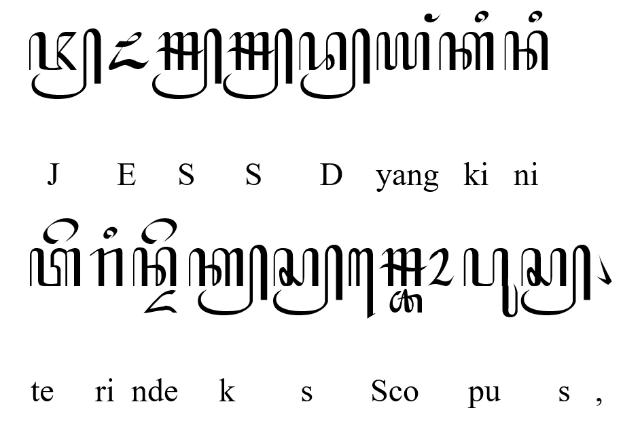-S: (222, 27, 294, 99), (152, 27, 222, 99)
-d: (300, 28, 370, 100)
-j: (28, 26, 102, 99)
-k: (188, 244, 268, 316)
-s: (518, 245, 592, 317), (273, 244, 343, 318)
E: (108, 32, 150, 71)
S: (378, 247, 428, 287)
_c: (389, 289, 423, 315)
_d: (144, 289, 178, 315)
e: (140, 218, 178, 245), (42, 218, 80, 244)
e1: (348, 248, 376, 320)
i: (529, 10, 543, 24), (102, 227, 118, 239), (474, 10, 488, 22)
k: (438, 31, 494, 71)
kom: (596, 253, 612, 287)
n: (132, 248, 178, 288), (504, 31, 548, 71)
ng: (424, 13, 441, 23)
o: (427, 247, 455, 287)
pu: (462, 247, 518, 318)
r: (90, 248, 122, 287)
t: (29, 248, 81, 288)
y: (376, 31, 430, 70)
